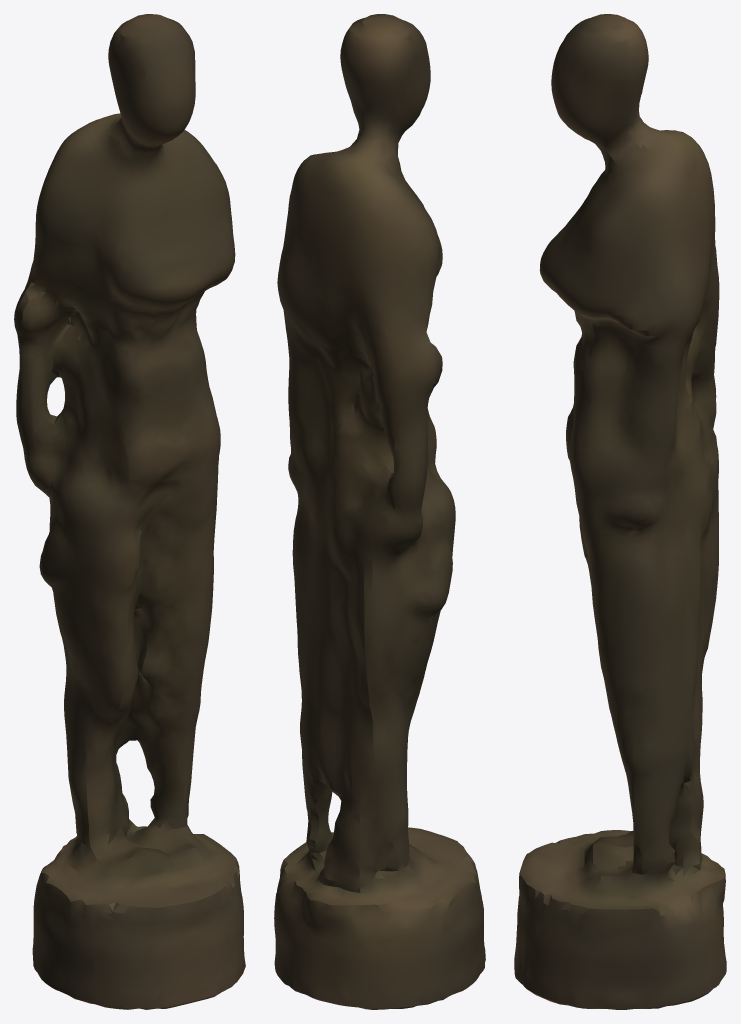
The model's file is GenStatue_3.fbx.
3 views of the same model, side by side, from view 1: azimuth 30°, elevation 25°; view 2: azimuth 150°, elevation 25°; view 3: azimuth 270°, elevation 25° (orthographic).
Visible parts, largest first — view 1: example_mesh_4; view 2: example_mesh_4; view 3: example_mesh_4.
Boxes of the visible parts, x1,y1,x2,y2 form: example_mesh_4: (14,14,245,1009); example_mesh_4: (274,14,485,1009); example_mesh_4: (514,14,726,1009).
Size of the model in its own units: 39.41 by 198 by 40.09.
